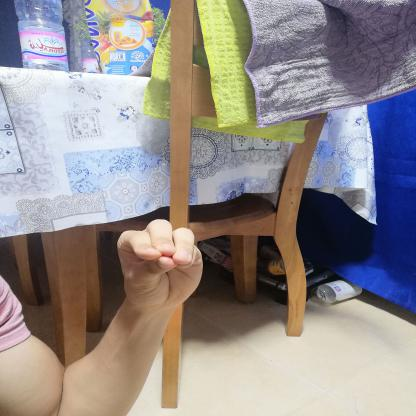HA: (101, 207, 221, 320)
